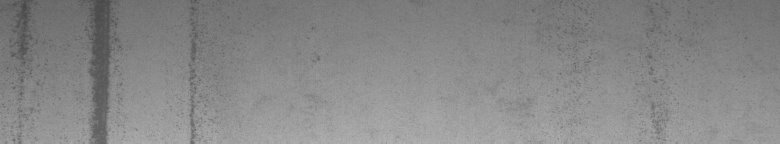hd: (4, 4, 216, 136)
